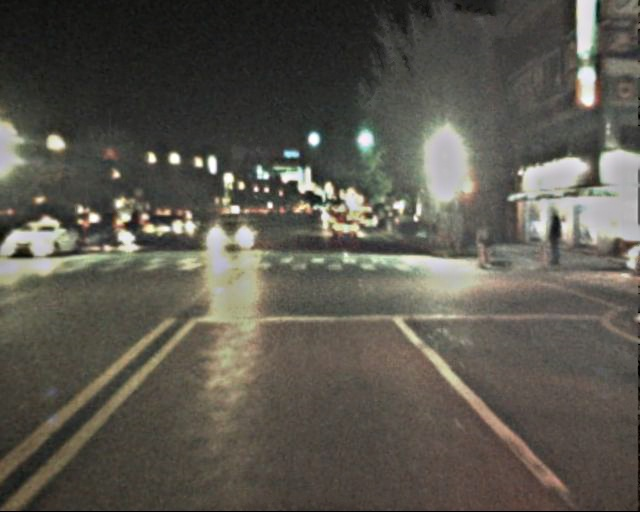person: (544, 212, 568, 270), (473, 220, 496, 270)
